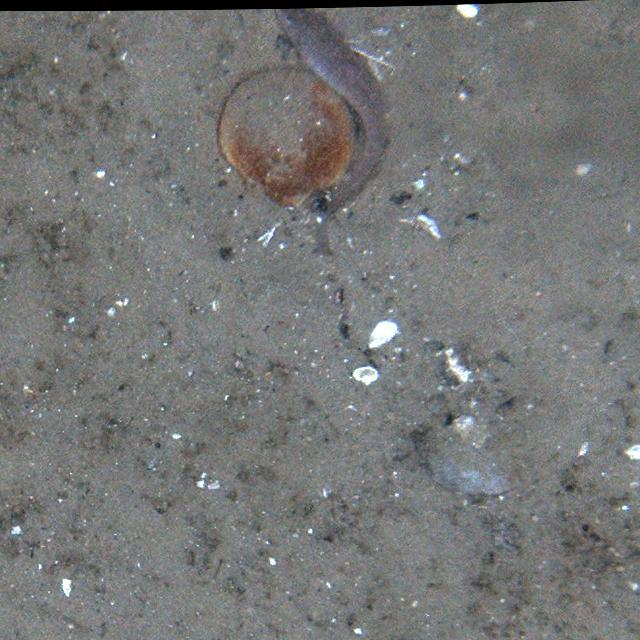roundfish: (275, 13, 391, 228)
